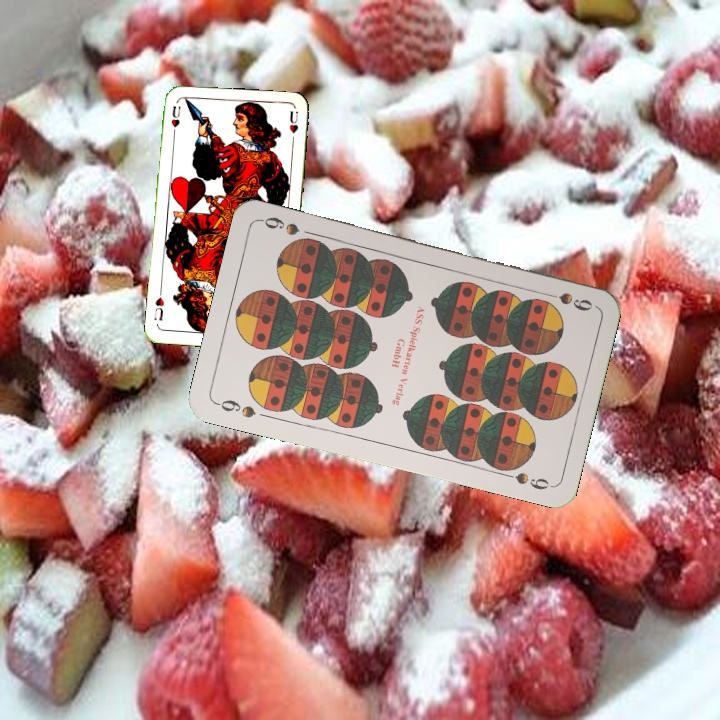HU: (167, 102, 183, 130)
S9: (537, 288, 595, 314), (212, 395, 258, 421)
